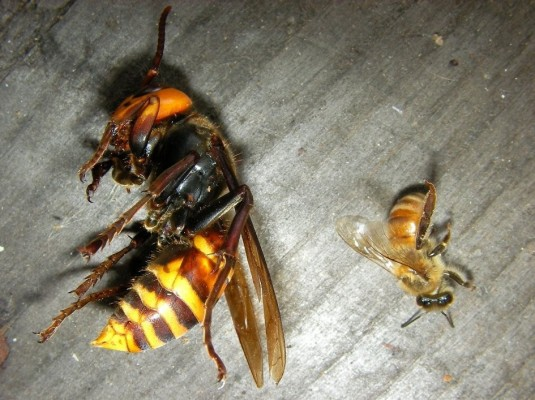asian_giant_hornet: (34, 8, 304, 387)
